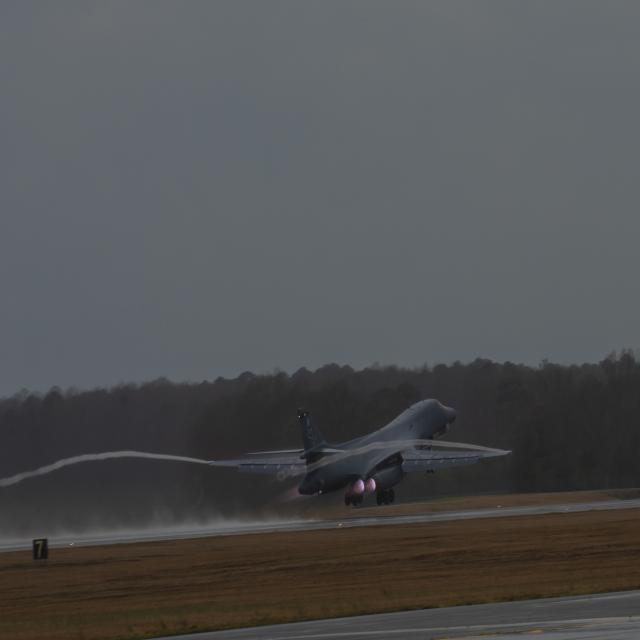MIL_Plane: (207, 398, 512, 506)
